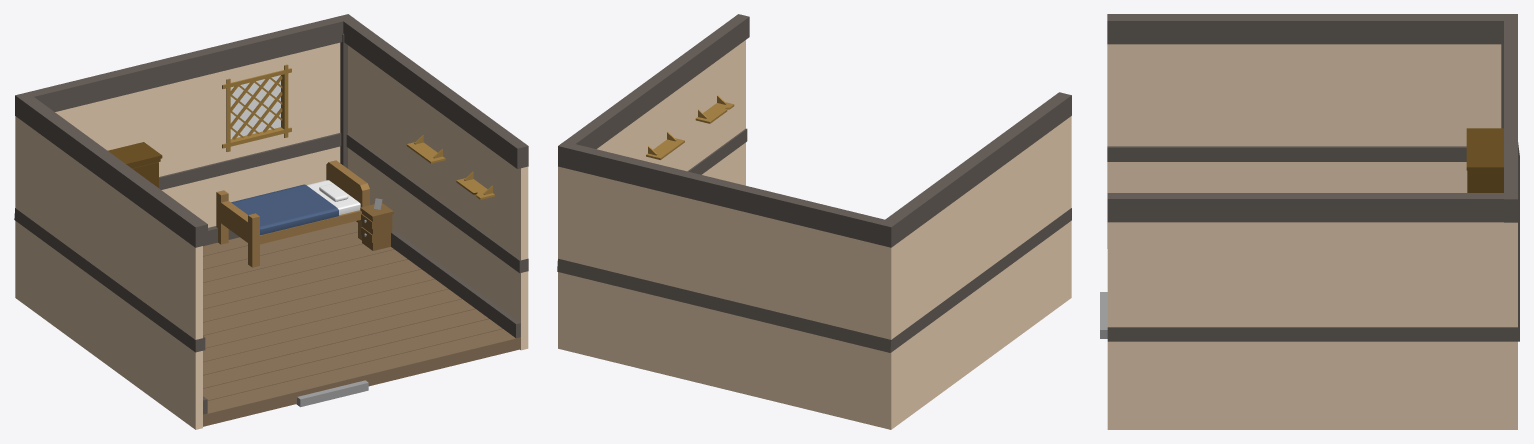
File: Room.fbx
The picture shows the model from 3 angles, left to right: view 1: azimuth 30°, elevation 25°; view 2: azimuth 150°, elevation 25°; view 3: azimuth 270°, elevation 25°; orthographic projection. The views are drawn at different scales.
Visible parts, largest first — view 1: polySurface54, polySurface28, polySurface12, polySurface71, polySurface8, polySurface49, polySurface18, polySurface62, polySurface36, polySurface68, polySurface67, polySurface35 (+17 smaller); view 2: polySurface12, polySurface54, polySurface28, polySurface71, polySurface49, polySurface18, polySurface48, polySurface17, polySurface46; view 3: polySurface28, polySurface54, polySurface49, polySurface18, polySurface46, polySurface17, polySurface71, polySurface55, polySurface12, polySurface48.
Boxes of the visible parts, x1=… form: polySurface54: x1=16, y1=116, x2=202, y2=429; polySurface28: x1=348, y1=45, x2=528, y2=350; polySurface12: x1=15, y1=42, x2=340, y2=297; polySurface71: x1=28, y1=14, x2=351, y2=111; polySurface8: x1=203, y1=329, x2=520, y2=426; polySurface49: x1=15, y1=92, x2=207, y2=247; polySurface18: x1=337, y1=14, x2=528, y2=168; polySurface62: x1=203, y1=319, x2=502, y2=400; polySurface36: x1=216, y1=160, x2=369, y2=267; polySurface68: x1=203, y1=309, x2=488, y2=388; polySurface67: x1=203, y1=299, x2=475, y2=375; polySurface35: x1=231, y1=180, x2=360, y2=234; polySurface12: x1=558, y1=166, x2=891, y2=429; polySurface54: x1=891, y1=116, x2=1071, y2=429; polySurface28: x1=597, y1=40, x2=745, y2=185; polySurface71: x1=558, y1=142, x2=896, y2=244; polySurface49: x1=878, y1=92, x2=1071, y2=247; polySurface18: x1=558, y1=14, x2=749, y2=168; polySurface48: x1=557, y1=259, x2=891, y2=352; polySurface17: x1=882, y1=208, x2=1071, y2=352; polySurface46: x1=558, y1=128, x2=747, y2=260; polySurface28: x1=1107, y1=222, x2=1508, y2=429; polySurface54: x1=1107, y1=44, x2=1501, y2=248; polySurface49: x1=1107, y1=14, x2=1517, y2=44; polySurface18: x1=1107, y1=193, x2=1517, y2=222; polySurface46: x1=1107, y1=327, x2=1505, y2=341; polySurface17: x1=1107, y1=146, x2=1466, y2=161; polySurface71: x1=1504, y1=14, x2=1517, y2=222; polySurface55: x1=1466, y1=128, x2=1503, y2=192; polySurface12: x1=1508, y1=222, x2=1517, y2=429; polySurface48: x1=1505, y1=142, x2=1519, y2=341.
Bounding box in the file's own units: 764 × 444 × 732.
